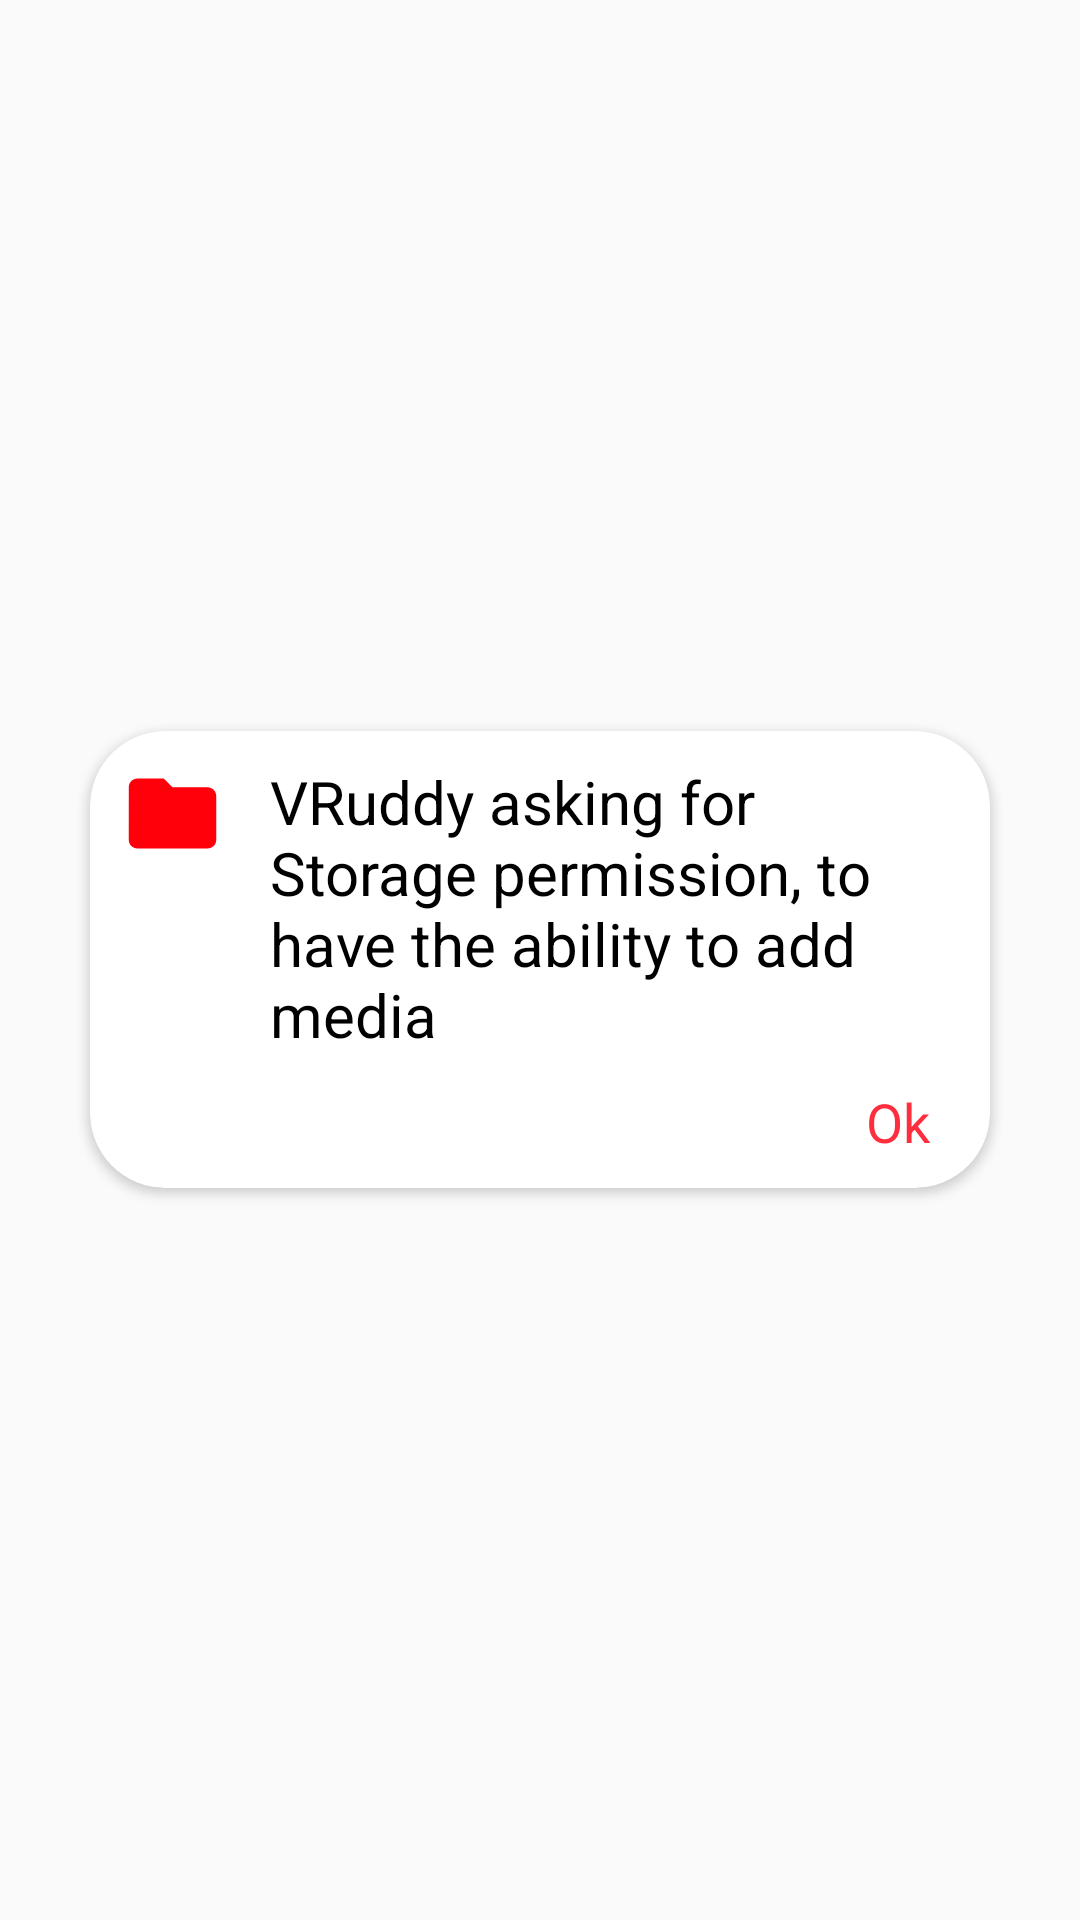

Locate icon controls on the screen. Image size 1080 x 1920, boxes as bbox=[x1, y1, x2, y2].
folder: bbox=[128, 778, 217, 849]
